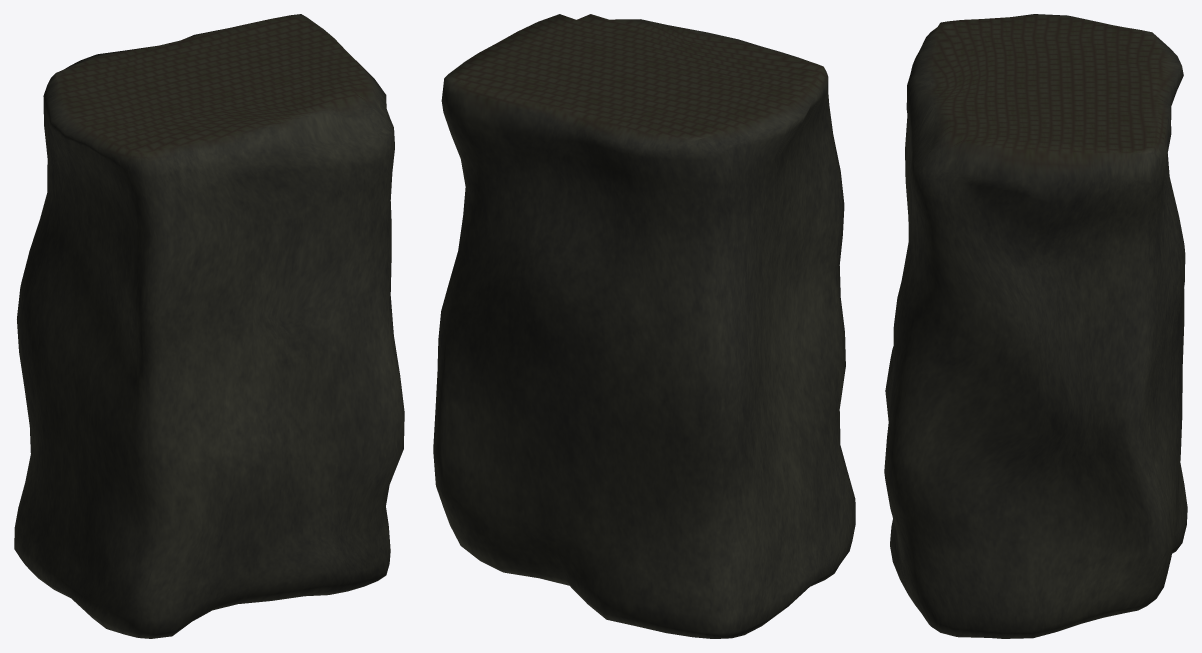
File: final general platform.fbx
3 views of the same model, side by side, from view 1: azimuth 30°, elevation 25°; view 2: azimuth 150°, elevation 25°; view 3: azimuth 270°, elevation 25° (orthographic). The views are drawn at different scales.
Visible parts, largest first — view 1: general; view 2: general; view 3: general.
Boxes of the visible parts, bbox=[...] form: general: bbox=[14, 14, 404, 638]; general: bbox=[433, 14, 855, 638]; general: bbox=[884, 14, 1187, 638].
Size of the model in its own units: 400 by 604 by 332.
1 material, 1 textured.
